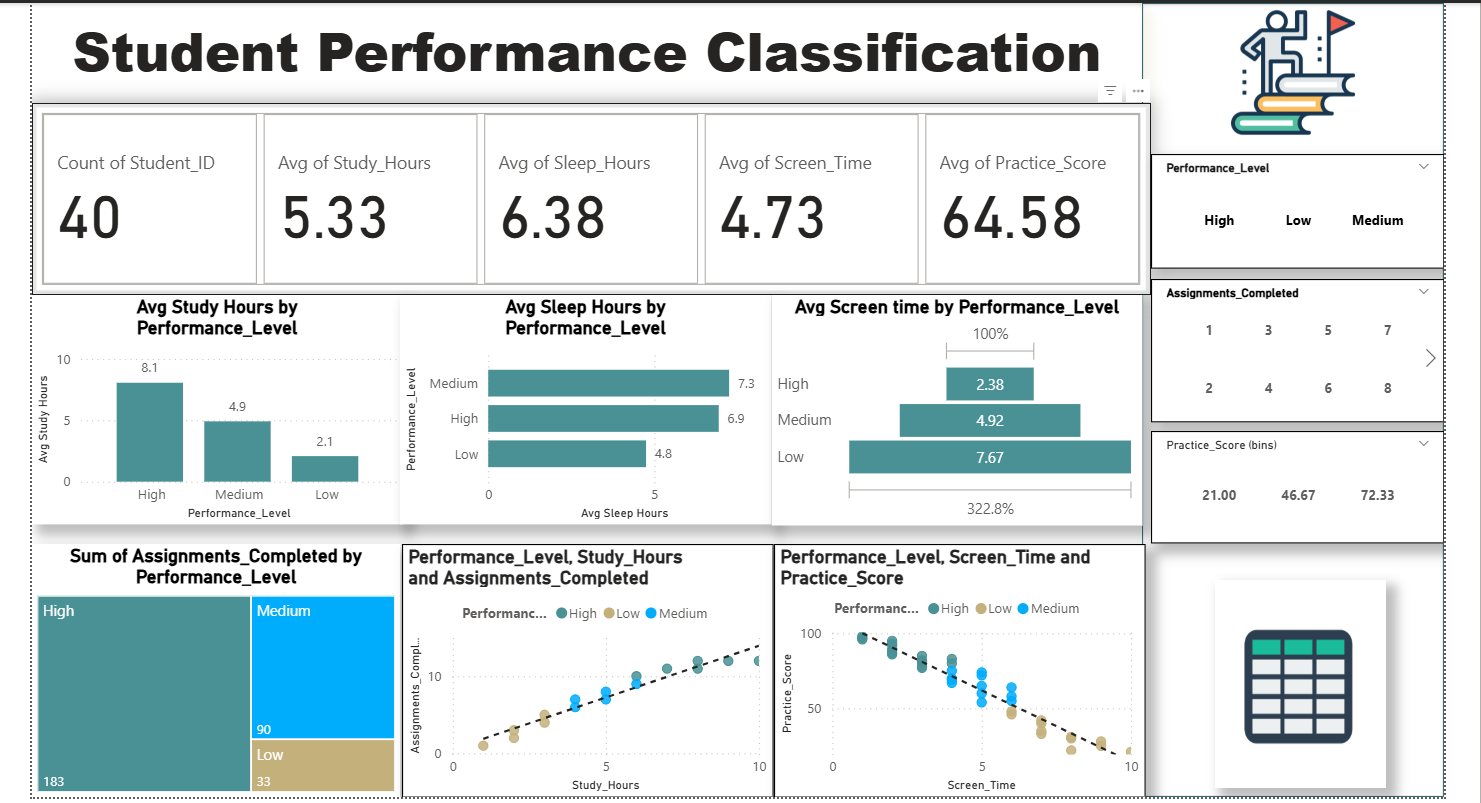

The page's visual inventory and layout, read from the dashboard file:
{"tool":"powerbi","page":{"name":"Dashboard","canvas":[1280,720],"ordinal":0},"visuals":[{"type":"textbox","box":[0,0,1006.3,90.6],"z":0},{"type":"shape","box":[1006.4,0,273.8,720],"z":1000},{"type":"image","box":[1006.4,0,273.8,125.7],"z":2000},{"type":"image","box":[1072.8,523.4,155.3,188.5],"z":3000},{"type":"cardVisual","fields":{"Data":["CountNonNull(student new.Student_ID)","Avg(student new.Study_Hours)","Avg(student new.Sleep_Hours)","Avg(student new.Screen_Time)","Avg(student new.Practice_Score)"]},"box":[0,90.7,1014.5,174.2],"z":4000},{"type":"slicer","fields":{"Values":["student new.Performance_Level"]},"box":[1014.7,136.9,265.7,104.3],"z":5000},{"type":"columnChart","fields":{"Category":["student new.Performance_Level"],"Y":["Measures Table.Avg Study Hours"]},"box":[0,264.8,336,208.3],"z":6000},{"type":"barChart","fields":{"Category":["student new.Performance_Level"],"Y":["Measures Table.Avg Sleep Hours"]},"box":[334,264.8,336.7,208.3],"z":7000},{"type":"funnel","fields":{"Category":["student new.Performance_Level"],"Y":["Measures Table.Avg Screen time"]},"box":[671,264.8,335.5,208.6],"z":8000},{"type":"treemap","fields":{"Group":["student new.Performance_Level"],"Values":["Sum(student new.Assignments_Completed)"]},"box":[0,490.2,334,229.8],"z":9000},{"type":"scatterChart","fields":{"X":["student new.Study_Hours"],"Y":["student new.Assignments_Completed"],"Series":["student new.Performance_Level"]},"box":[335.8,490.2,336.7,229.8],"z":10000},{"type":"scatterChart","fields":{"Series":["student new.Performance_Level"],"X":["student new.Screen_Time"],"Y":["student new.Practice_Score"]},"box":[672.4,490.2,336.7,229.8],"z":11000},{"type":"slicer","fields":{"Values":["student new.Assignments_Completed"]},"box":[1014.7,250.3,265.7,129.7],"z":12000},{"type":"slicer","fields":{"Values":["student new.Practice_Score (bins)"]},"box":[1014.7,388.1,265.7,102.5],"z":13000}]}

Visuals, with their boxes on the page's 1280x720 design canvas (x1, y1, x2, y2). These are canvas units, not pixel positions in the 1481x803 screenshot, which may show the page scaled, cropped or inside an application window:
textbox: <region>0, 0, 1006, 91</region>
shape: <region>1006, 0, 1280, 720</region>
image: <region>1006, 0, 1280, 126</region>
image: <region>1073, 523, 1228, 712</region>
cardVisual - CountNonNull(student new.Student_ID) x Avg(student new.Study_Hours): <region>0, 91, 1014, 265</region>
slicer - student new.Performance_Level: <region>1015, 137, 1280, 241</region>
columnChart - student new.Performance_Level x Measures Table.Avg Study Hours: <region>0, 265, 336, 473</region>
barChart - student new.Performance_Level x Measures Table.Avg Sleep Hours: <region>334, 265, 671, 473</region>
funnel - student new.Performance_Level x Measures Table.Avg Screen time: <region>671, 265, 1006, 473</region>
treemap - student new.Performance_Level x Sum(student new.Assignments_Completed): <region>0, 490, 334, 720</region>
scatterChart - student new.Study_Hours x student new.Assignments_Completed: <region>336, 490, 672, 720</region>
scatterChart - student new.Performance_Level x student new.Screen_Time: <region>672, 490, 1009, 720</region>
slicer - student new.Assignments_Completed: <region>1015, 250, 1280, 380</region>
slicer - student new.Practice_Score (bins): <region>1015, 388, 1280, 491</region>
